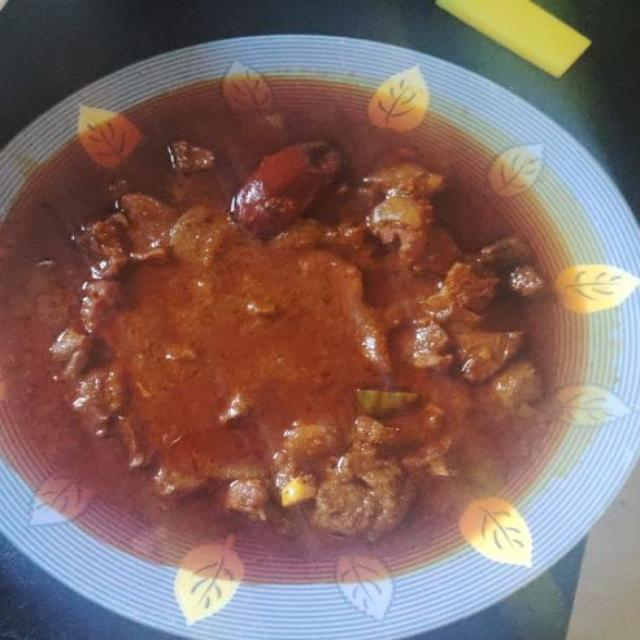kamouniya: (63, 48, 628, 530)
